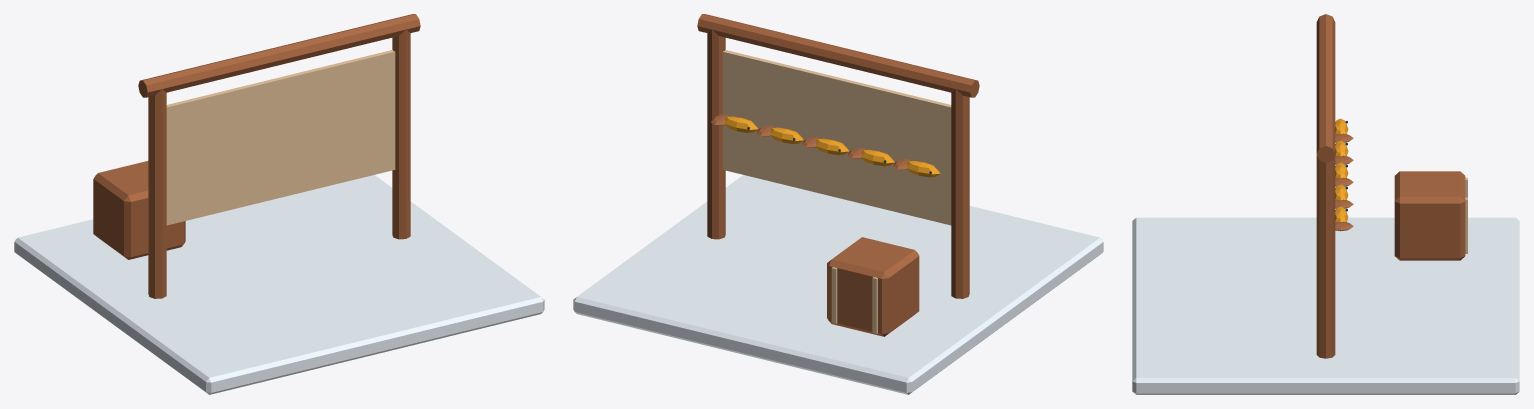
Rendered from Building_Drying_2x2_v001.fbx.
The picture shows the model from 3 angles, left to right: view 1: azimuth 30°, elevation 25°; view 2: azimuth 150°, elevation 25°; view 3: azimuth 270°, elevation 25°; orthographic projection.
Visible parts, largest first — view 1: Foundation, DryingNet_Anim, DryingBeam, Crate, RackPost.001, RackPost; view 2: Foundation, DryingNet_Anim, Crate, DryingBeam, RackPost.001, RackPost; view 3: Foundation, Crate, RackPost, DryingBeam.
Part boxes in pixels (box(x1,y1,x2,y2)): Foundation: box(14, 175, 544, 394); DryingNet_Anim: box(166, 50, 395, 225); DryingBeam: box(138, 14, 420, 97); Crate: box(93, 161, 185, 259); RackPost.001: box(148, 89, 166, 298); RackPost: box(392, 30, 410, 239); Foundation: box(573, 175, 1103, 394); DryingNet_Anim: box(722, 50, 951, 225); Crate: box(827, 237, 919, 336); DryingBeam: box(697, 14, 979, 97); RackPost.001: box(951, 89, 969, 298); RackPost: box(707, 30, 725, 239); Foundation: box(1132, 217, 1519, 394); Crate: box(1394, 171, 1465, 260); RackPost: box(1316, 155, 1335, 358); DryingBeam: box(1316, 14, 1335, 162).
Bounding box in the file's own units: 186 × 125 × 186.
